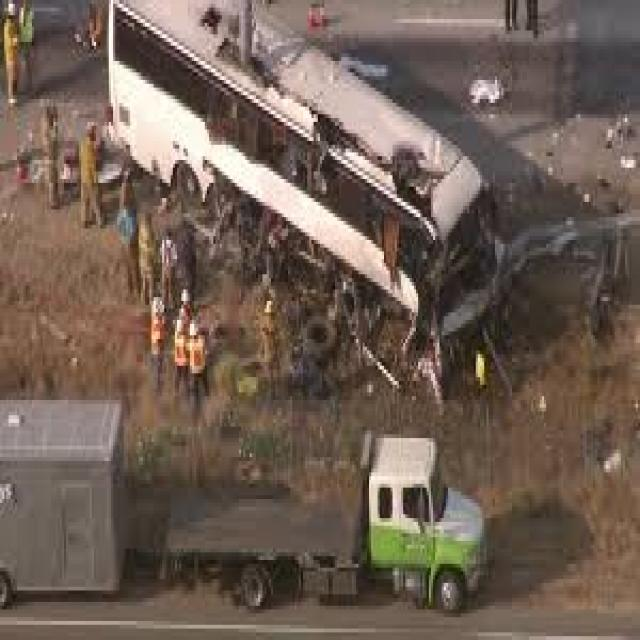accident: (105, 12, 507, 390)
